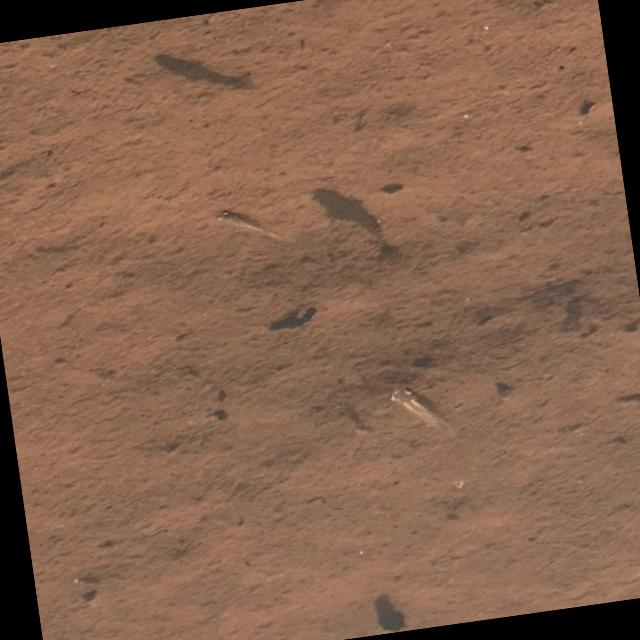Sivrisinek Baligi: (382, 374, 470, 447), (210, 194, 290, 255)
